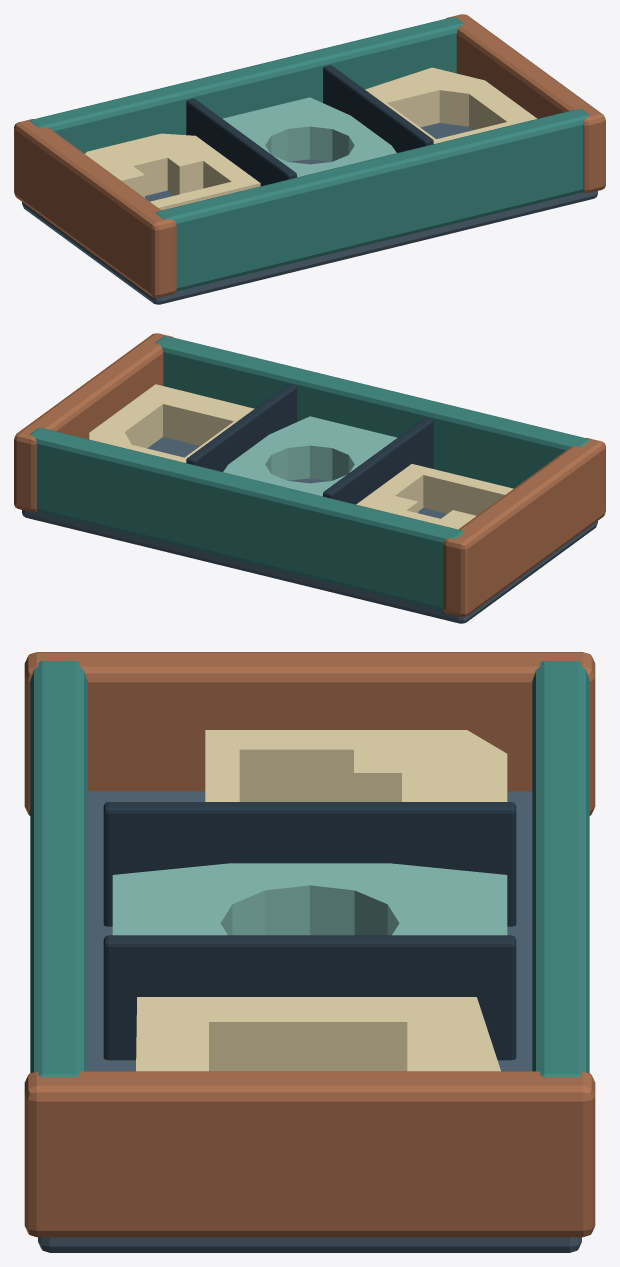
3 renders of one model, top to bottom at view 1: azimuth 30°, elevation 25°; view 2: azimuth 150°, elevation 25°; view 3: azimuth 270°, elevation 25°, orthographic. The views are drawn at different scales.
Parts seen in each view (by area): view 1: PR145 enamel and hardware; view 2: PR145 enamel and hardware; view 3: PR145 enamel and hardware.
Boxes of the visible parts, bbox=[...] form: PR145 enamel and hardware: bbox=[14, 14, 605, 304]; PR145 enamel and hardware: bbox=[14, 333, 605, 623]; PR145 enamel and hardware: bbox=[24, 652, 595, 1252].
Bounding box in the file's own units: 0.39 × 0.071 × 0.2121.
